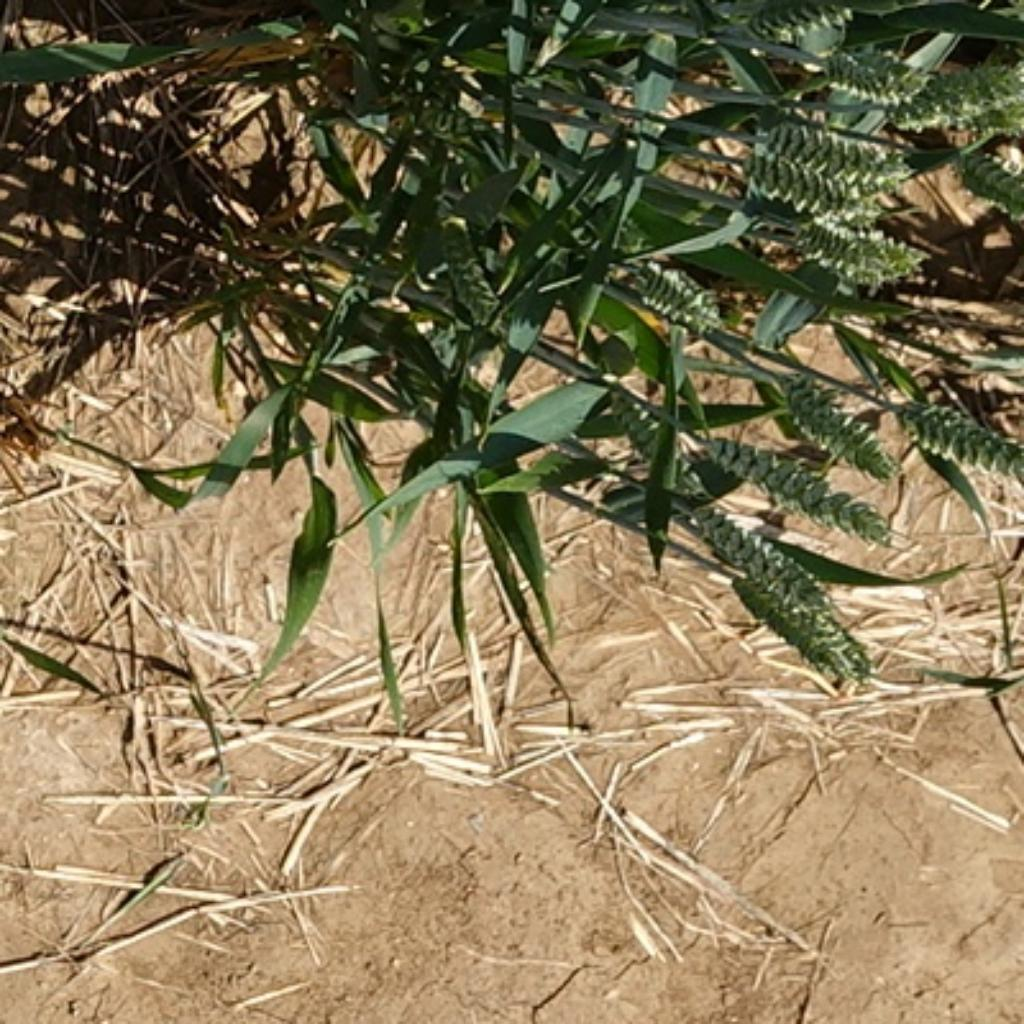0-0: (688, 496, 855, 622), (696, 419, 888, 517), (730, 576, 868, 681), (770, 363, 885, 468), (427, 202, 512, 340), (783, 209, 926, 291), (605, 380, 705, 495), (768, 115, 924, 186), (747, 145, 883, 225), (896, 46, 1024, 130), (896, 399, 1024, 478), (614, 243, 727, 332), (814, 33, 929, 102), (706, 0, 852, 40), (957, 138, 1024, 202)
